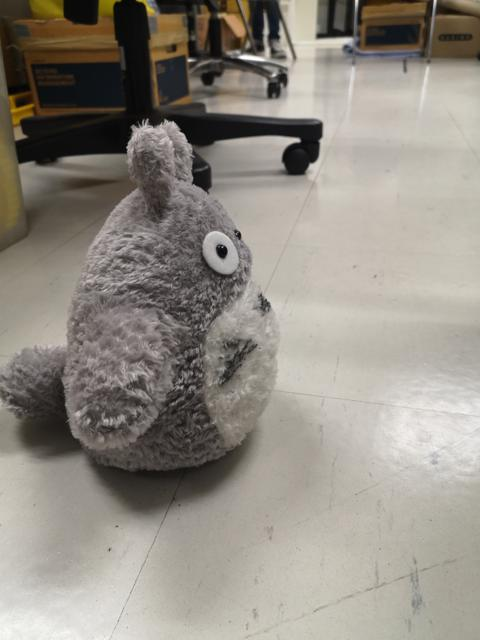totoro: (1, 118, 288, 478)
